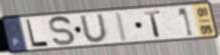1: (177, 6, 194, 37)
I: (114, 11, 130, 43)
L: (25, 18, 50, 48)
S: (48, 15, 77, 47)
T: (142, 9, 163, 38)
U: (78, 13, 110, 44)
